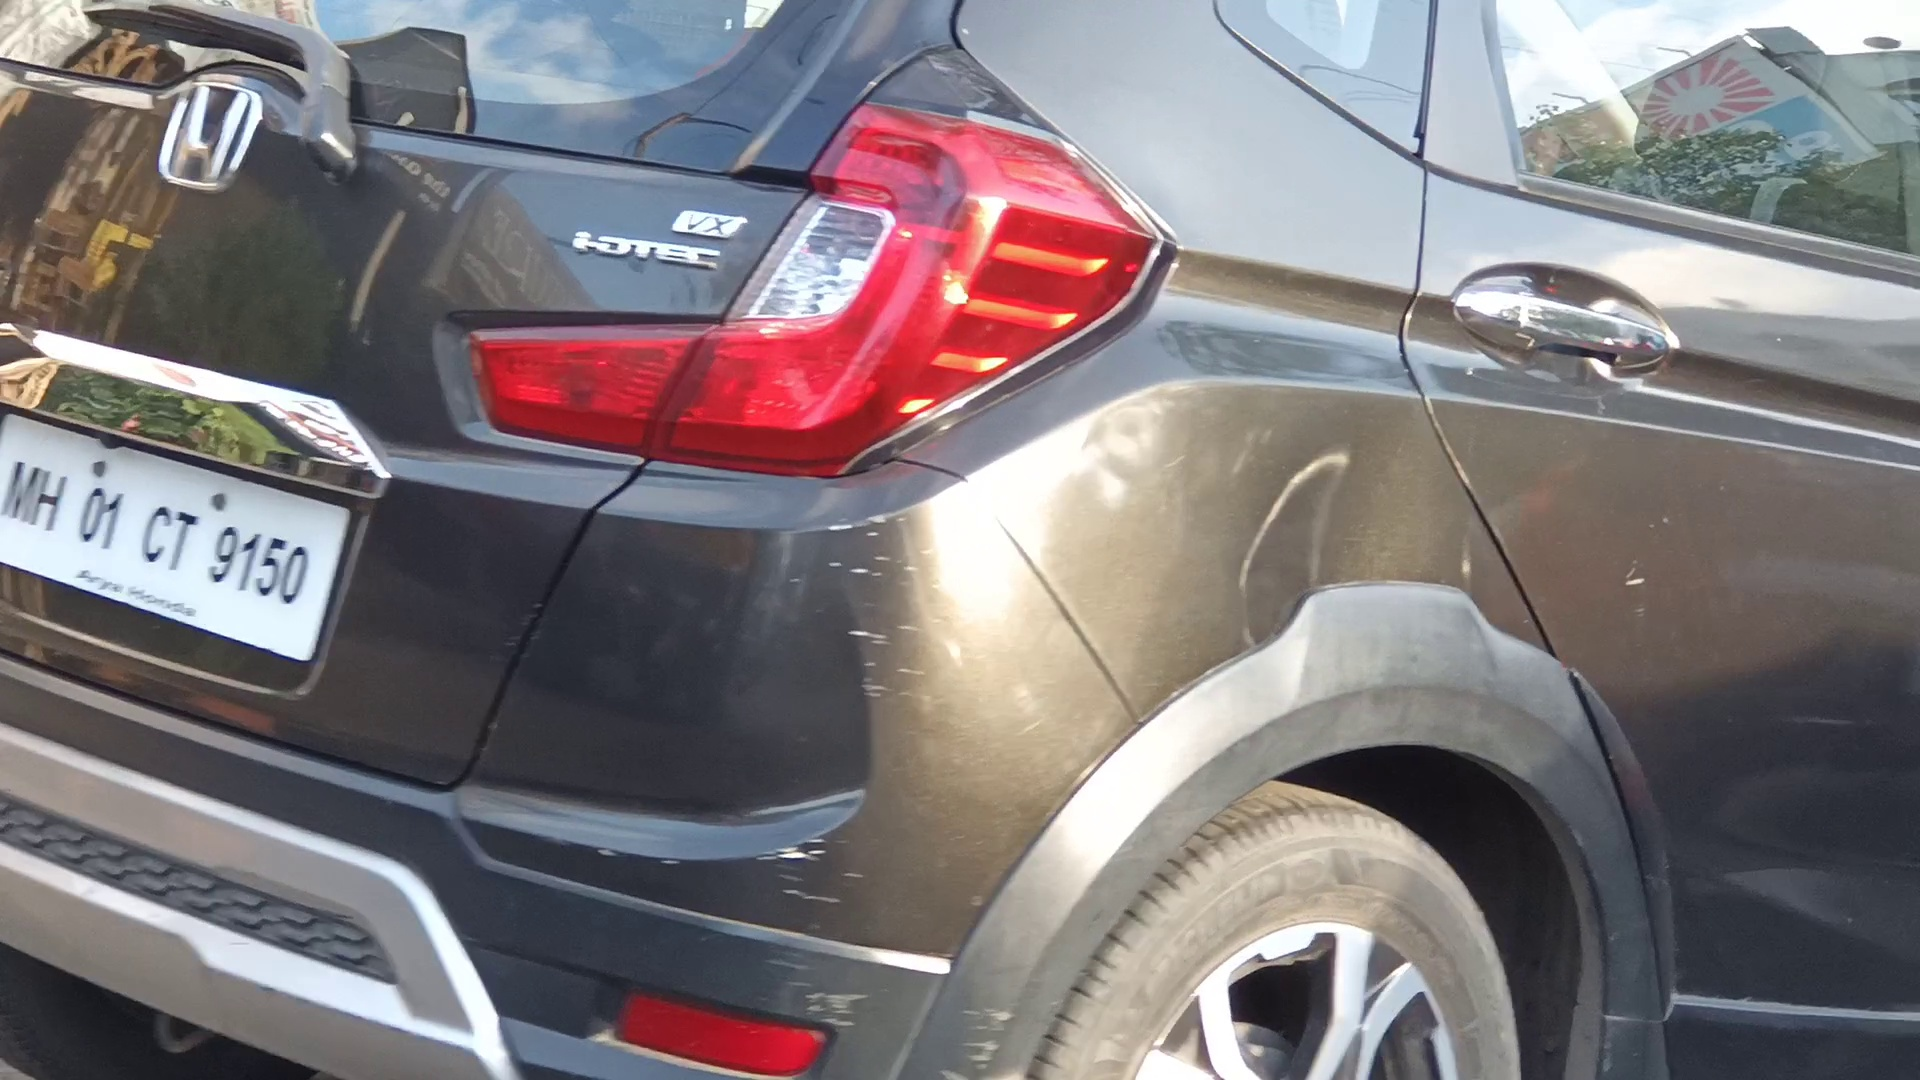MH01CT9150: (1, 408, 350, 663)
